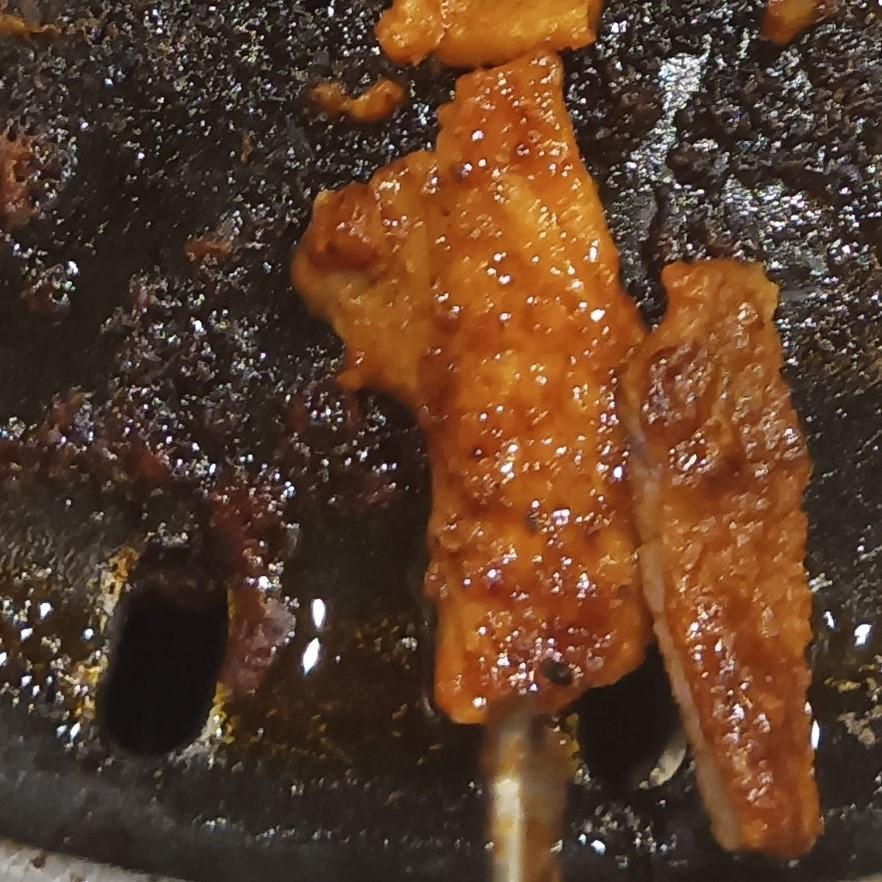Well-Cooked: (291, 0, 825, 867)
